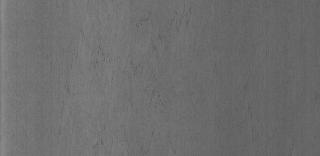silk spot: (91, 2, 199, 102)
